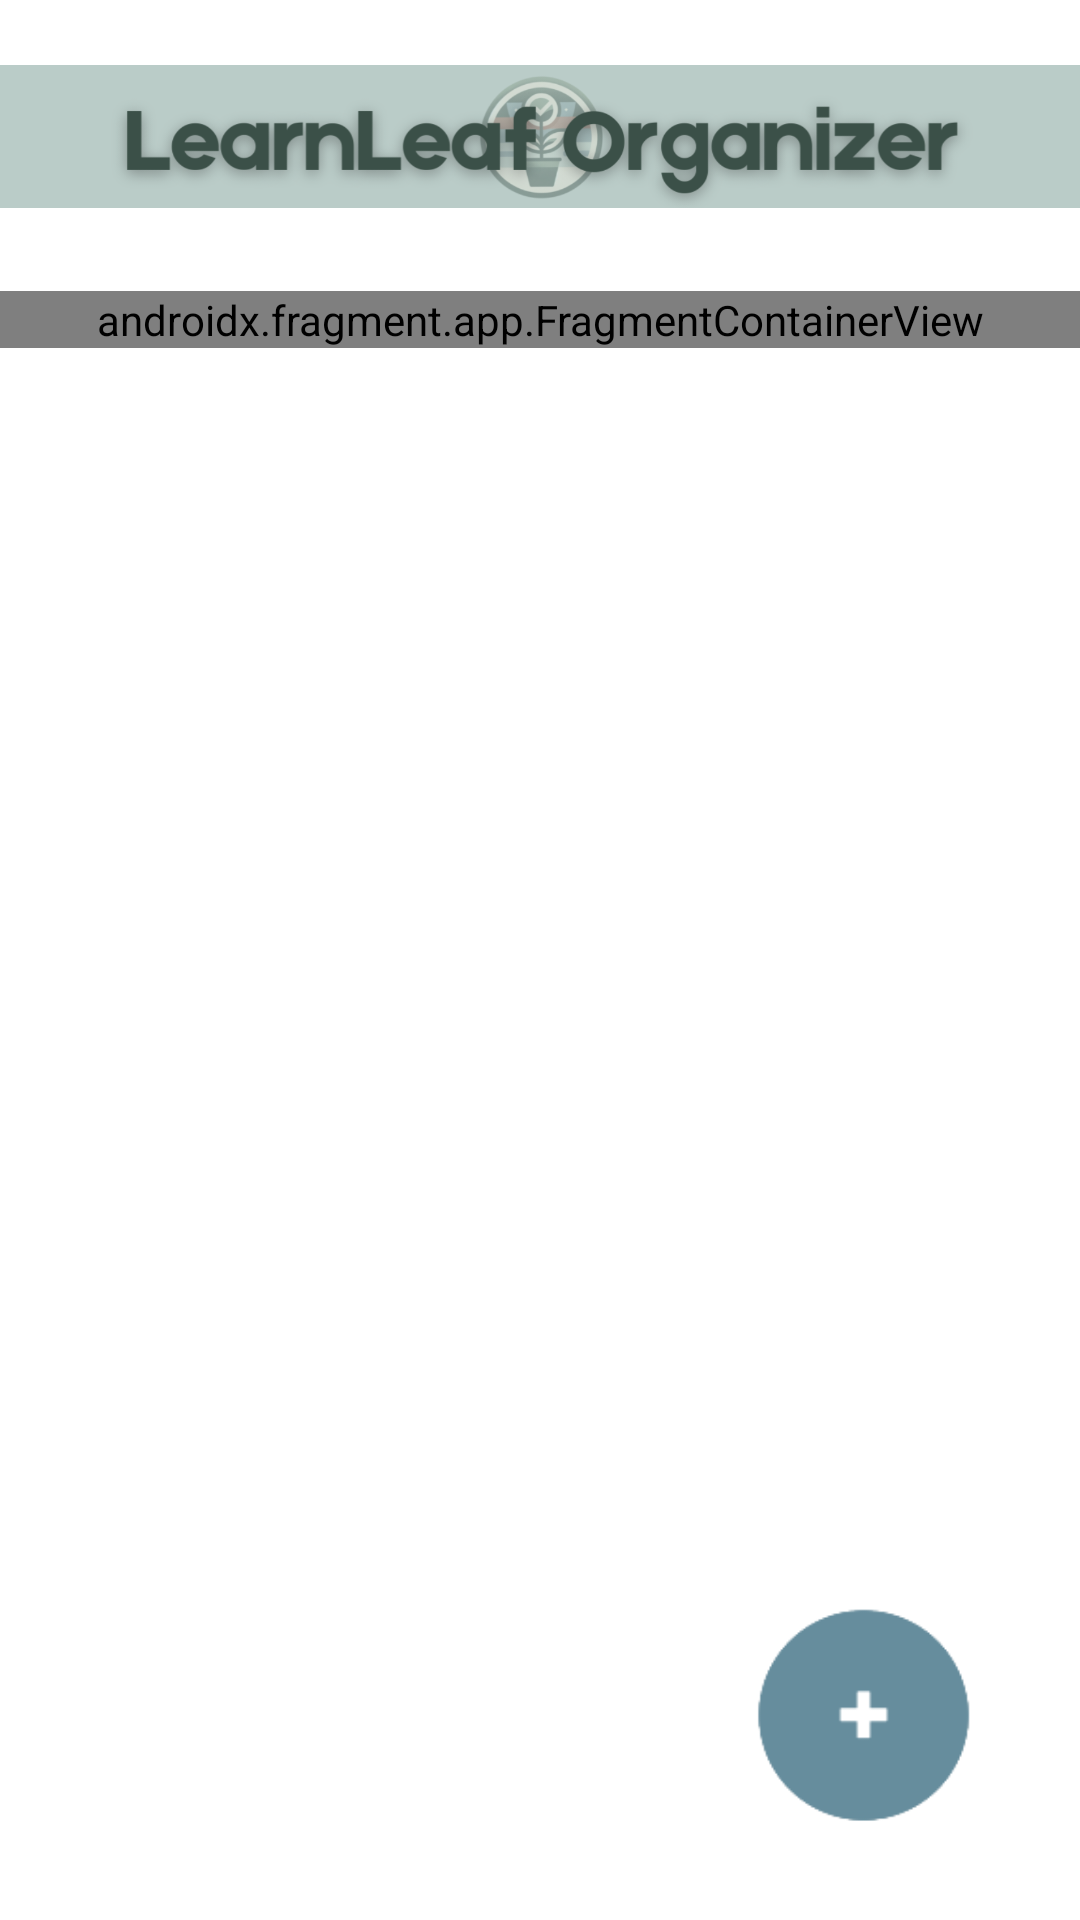

Where icons sit on this 1080px x 1920px app screen, as (x1, y1, x2, y2):
addnew: (758, 1609, 970, 1821)
